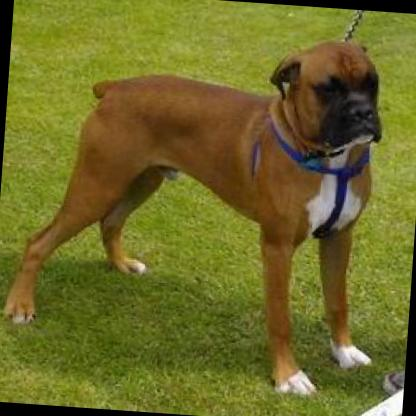boxer: (0, 13, 395, 400)
